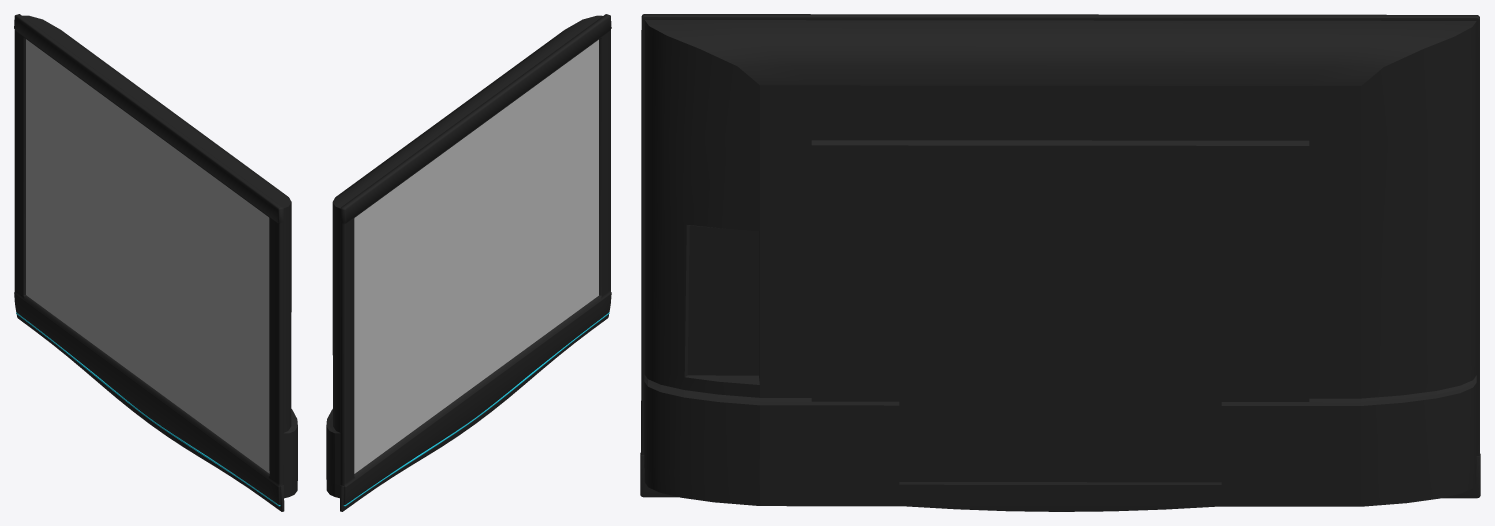
3 renders of one model, left to right at view 1: azimuth 30°, elevation 25°; view 2: azimuth 150°, elevation 25°; view 3: azimuth 270°, elevation 25°, orthographic. The views are drawn at different scales.
Visible parts, largest first — view 1: Tv; view 2: Tv; view 3: Tv.
Boxes of the visible parts, x1,y1,x2,y2 form: Tv: (14, 14, 297, 511); Tv: (326, 14, 611, 511); Tv: (640, 14, 1480, 511).
Size of the model in its own units: 0.4413 by 3.06 by 4.71.
